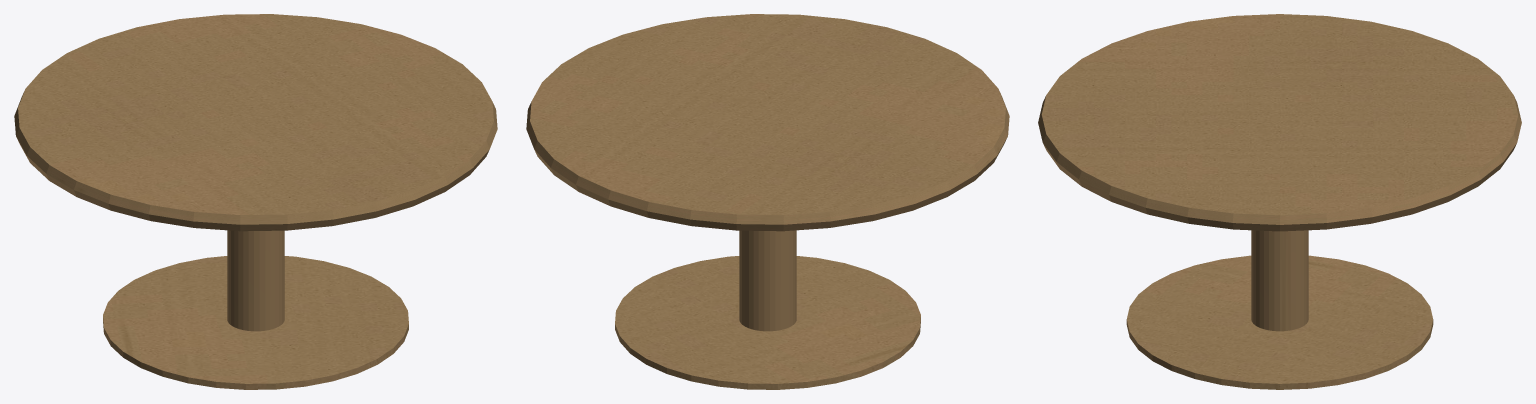
The model's file is Mesa circular.fbx.
3 views of the same model, side by side, from view 1: azimuth 30°, elevation 25°; view 2: azimuth 150°, elevation 25°; view 3: azimuth 270°, elevation 25° (orthographic).
Visible parts, largest first — view 1: Cylinder.001, Cylinder; view 2: Cylinder.001, Cylinder; view 3: Cylinder.001, Cylinder.
Part boxes in pixels (x1,y1,x2,y2): Cylinder.001: (14,14,497,231); Cylinder: (103,230,408,389); Cylinder.001: (526,14,1009,231); Cylinder: (615,230,920,389); Cylinder.001: (1038,14,1521,231); Cylinder: (1126,230,1433,389).
Bounding box in the file's own units: 316 × 152 × 316.
Materials: 2 (2 with a texture image).
